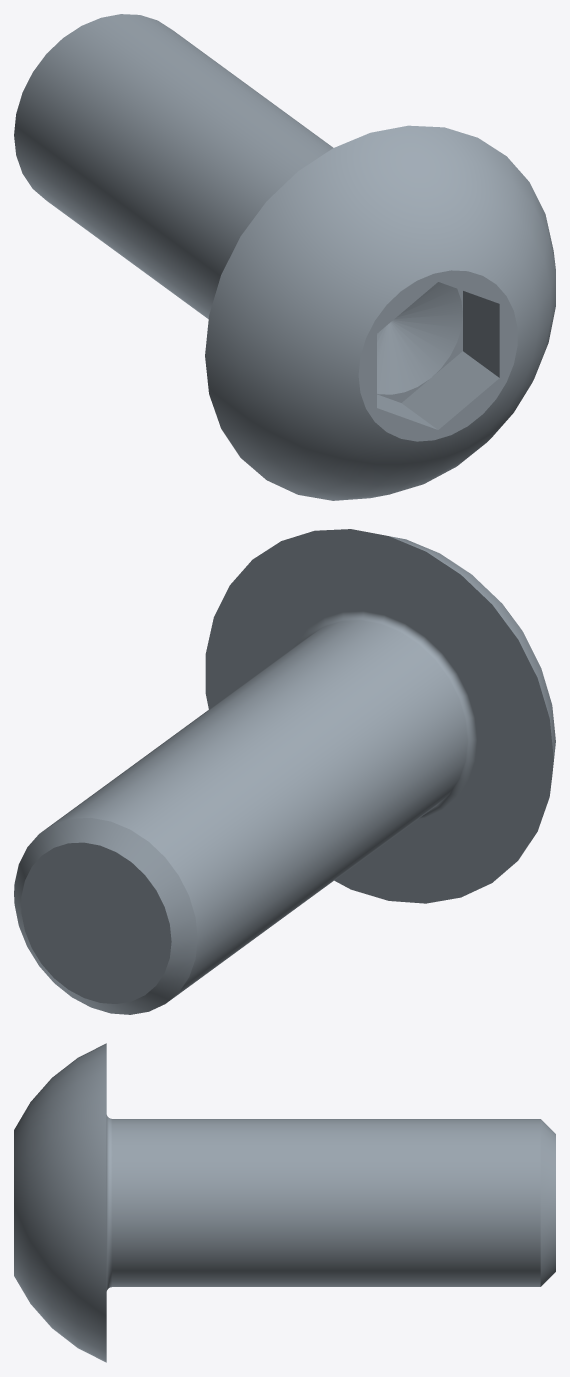
The model's file is Socket_button_head_screw_M3x0_5_x_8.obj.
3 views of the same model, one above another, from view 1: azimuth 30°, elevation 25°; view 2: azimuth 150°, elevation 25°; view 3: azimuth 270°, elevation 25° (orthographic). The views are drawn at different scales.
Parts seen in each view (by area): view 1: mesh262, mesh259, mesh263, mesh271, mesh268, mesh269, mesh267; view 2: mesh259, mesh261, mesh257, mesh258, mesh260, mesh262; view 3: mesh259, mesh262, mesh258, mesh260.
Part boxes in pixels (x1=…): mesh262: x1=205, y1=125, x2=555, y2=500; mesh259: x1=14, y1=14, x2=333, y2=318; mesh263: x1=358, y1=270, x2=517, y2=441; mesh271: x1=377, y1=282, x2=462, y2=394; mesh268: x1=401, y1=351, x2=499, y2=429; mesh269: x1=463, y1=291, x2=499, y2=377; mesh267: x1=377, y1=394, x2=437, y2=429; mesh259: x1=41, y1=620, x2=467, y2=1003; mesh261: x1=205, y1=529, x2=553, y2=903; mesh257: x1=21, y1=842, x2=171, y2=1003; mesh258: x1=14, y1=817, x2=197, y2=1014; mesh260: x1=293, y1=611, x2=477, y2=819; mesh262: x1=389, y1=536, x2=555, y2=793; mesh259: x1=112, y1=1119, x2=540, y2=1286; mesh262: x1=14, y1=1043, x2=106, y2=1362; mesh258: x1=540, y1=1119, x2=555, y2=1286; mesh260: x1=106, y1=1115, x2=112, y2=1290.
Size of the model in its own units: 0.00568 by 0.00569 by 0.00965.
